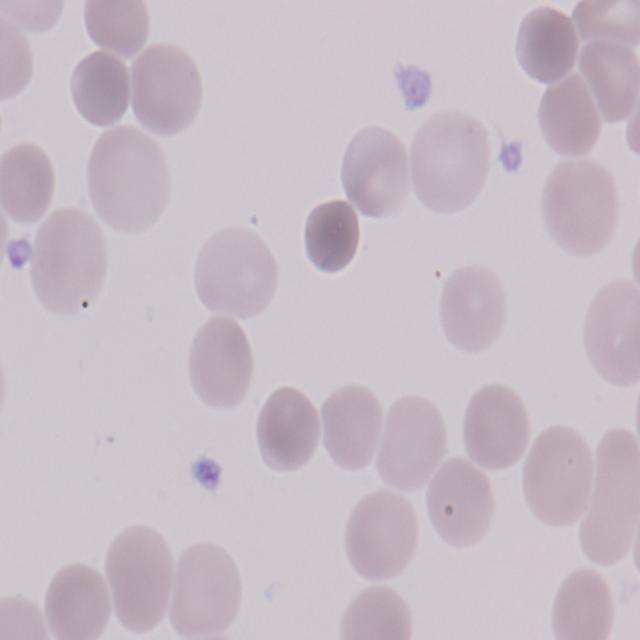RBC: (86, 117, 175, 238), (26, 205, 112, 316), (194, 222, 284, 328), (410, 106, 495, 218), (542, 150, 624, 262), (521, 423, 598, 532), (102, 522, 174, 638), (124, 43, 206, 144), (169, 537, 247, 640), (340, 487, 420, 587), (437, 260, 513, 362), (182, 314, 256, 418), (576, 276, 640, 394), (421, 454, 498, 552), (373, 394, 448, 494), (338, 126, 413, 221), (458, 378, 532, 472), (250, 389, 322, 476), (319, 380, 384, 476), (536, 72, 602, 162), (512, 5, 580, 91), (68, 51, 134, 138), (0, 138, 58, 236), (45, 562, 116, 640), (552, 563, 614, 640), (78, 0, 152, 62), (343, 583, 414, 640), (0, 593, 56, 640)
Spherocyte: (296, 197, 363, 280)
